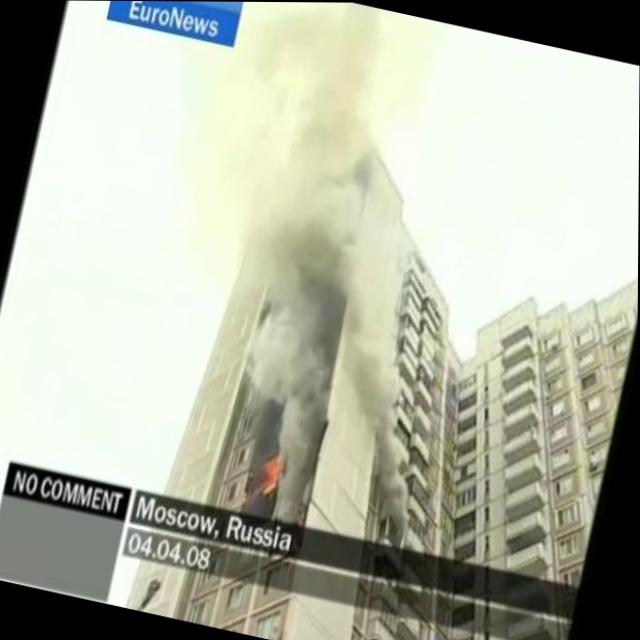fire: (257, 444, 289, 496)
